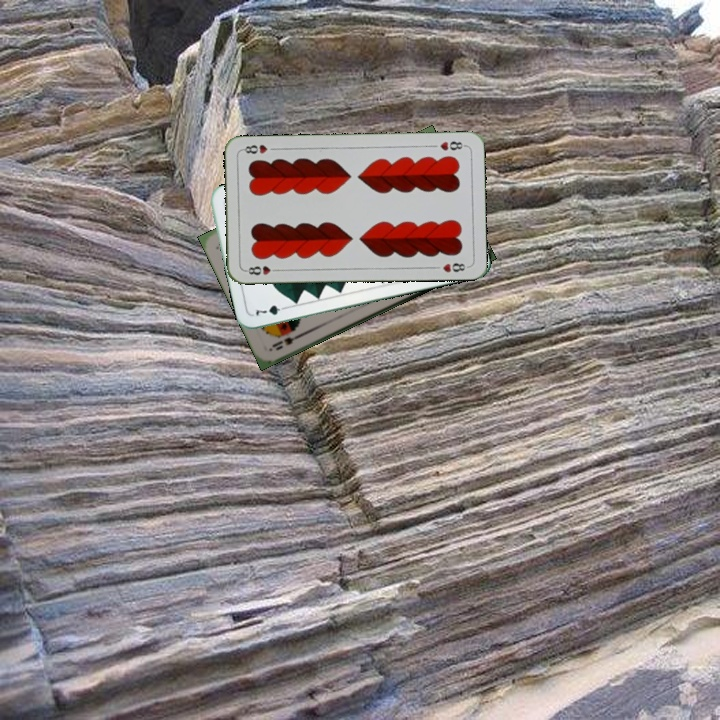G7: (251, 301, 291, 319)
H8: (241, 262, 282, 277), (436, 137, 468, 153)
SO: (267, 329, 306, 353)
